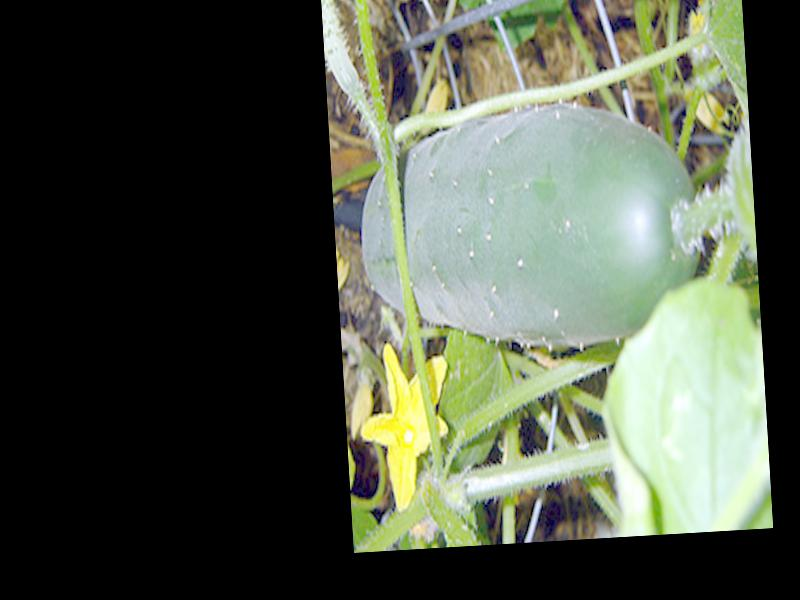Cucumber: (357, 98, 710, 357)
